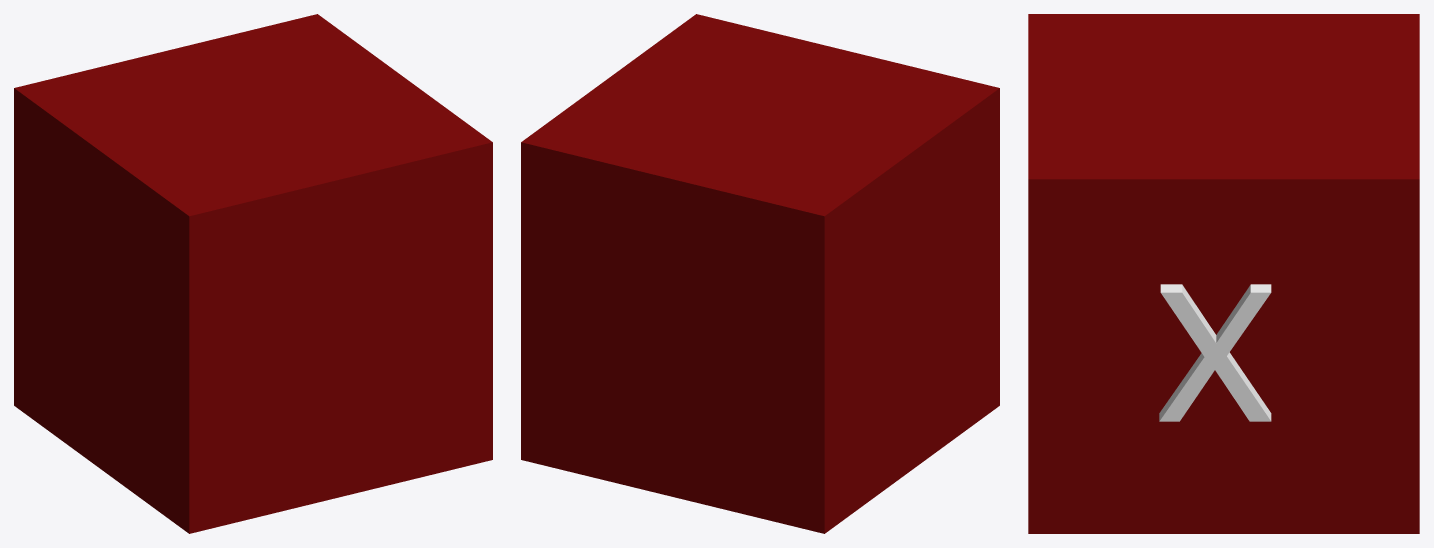
3 renders of one model, left to right at view 1: azimuth 30°, elevation 25°; view 2: azimuth 150°, elevation 25°; view 3: azimuth 270°, elevation 25°, orthographic. The views are drawn at different scales.
Visible parts, largest first — view 1: SketchUp; view 2: SketchUp; view 3: SketchUp, X.
Part boxes in pixels (x1,y1,x2,y2): SketchUp: [14, 14, 492, 533]; SketchUp: [521, 14, 999, 533]; SketchUp: [1028, 14, 1419, 533]; X: [1159, 284, 1271, 421].
Size of the model in its own units: 21 by 20 by 20.
